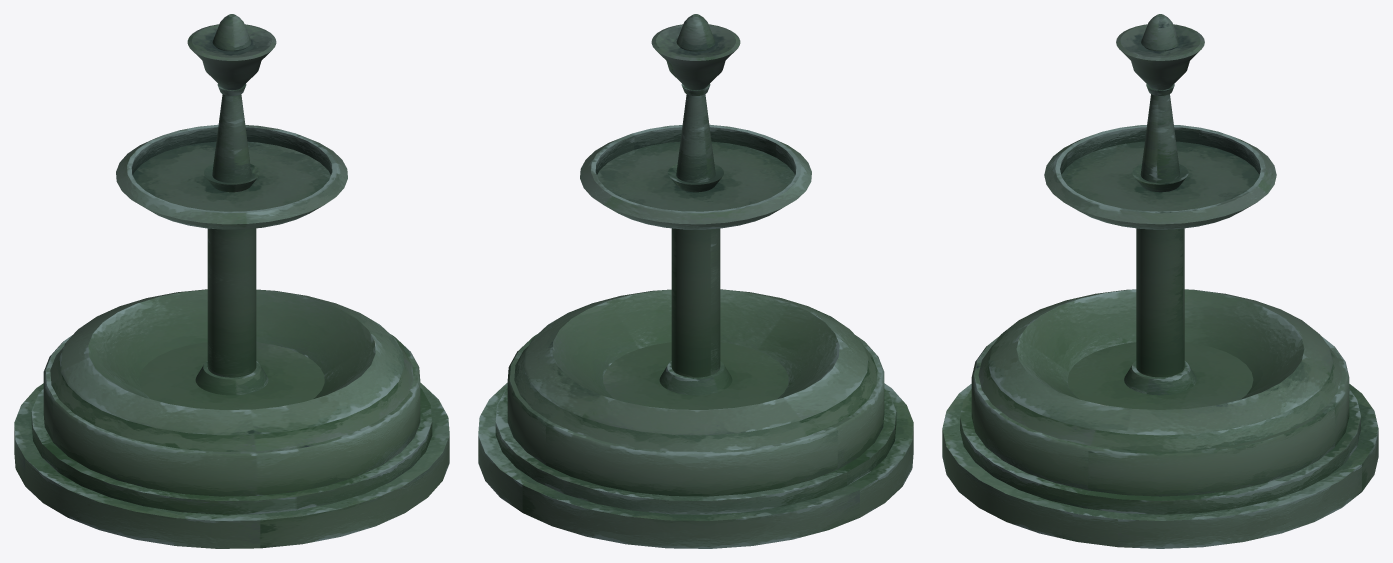
File: Water_Fountain.fbx
3 views of the same model, side by side, from view 1: azimuth 30°, elevation 25°; view 2: azimuth 150°, elevation 25°; view 3: azimuth 270°, elevation 25° (orthographic).
Visible parts, largest first — view 1: Fountain; view 2: Fountain; view 3: Fountain.
Part boxes in pixels (x1,y1,x2,y2): Fountain: (14,14,449,548); Fountain: (478,14,913,548); Fountain: (942,14,1378,548).
Size of the model in its own units: 1051 by 1172 by 1051.
